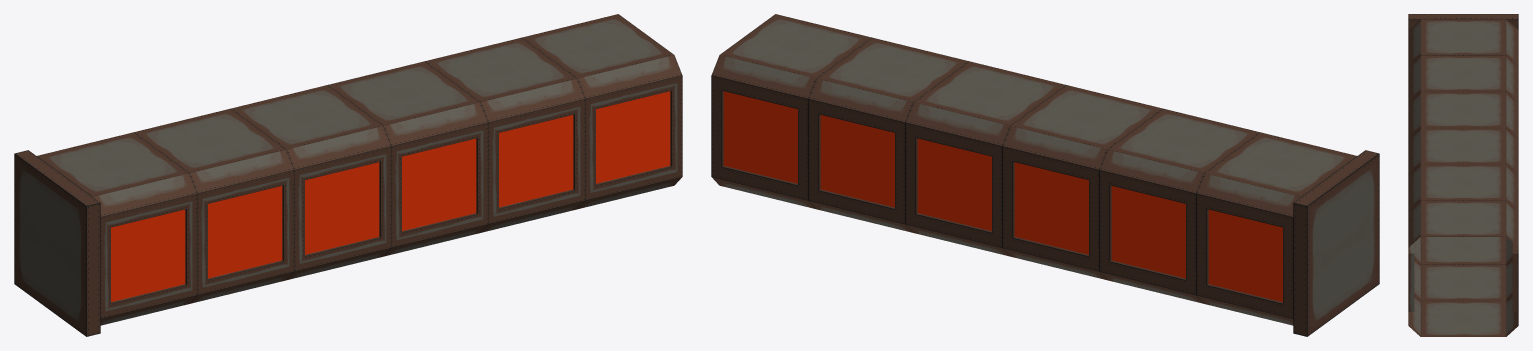
File: pistonTest.fbx
3 renders of one model, left to right at view 1: azimuth 30°, elevation 25°; view 2: azimuth 150°, elevation 25°; view 3: azimuth 270°, elevation 25°, orthographic. The views are drawn at different scales.
Visible parts, largest first — view 1: piston, gratePart; view 2: piston, gratePart; view 3: piston.
Part boxes in pixels (bbox=[...]): piston: bbox=[14, 14, 682, 336]; gratePart: bbox=[111, 91, 670, 301]; piston: bbox=[711, 14, 1379, 336]; gratePart: bbox=[723, 91, 1282, 301]; piston: bbox=[1408, 14, 1518, 336].
Size of the model in its own units: 61.44 by 12.88 by 12.88.
